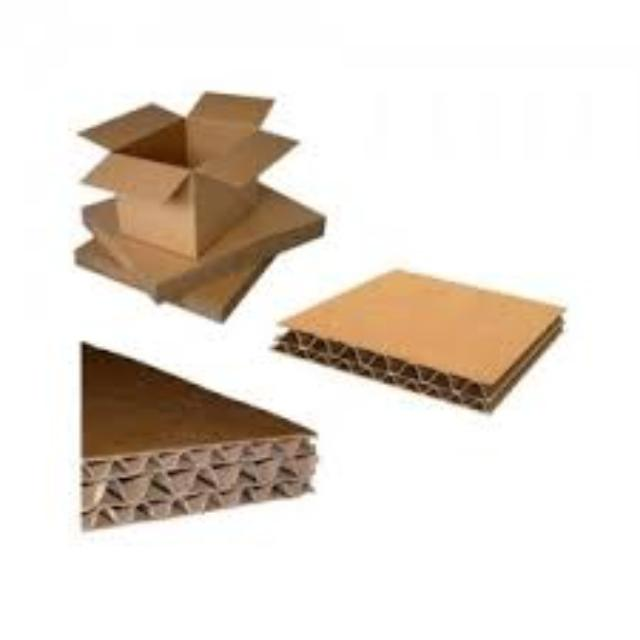cardboard paper: (74, 91, 319, 316), (80, 341, 310, 523), (273, 267, 558, 404)
